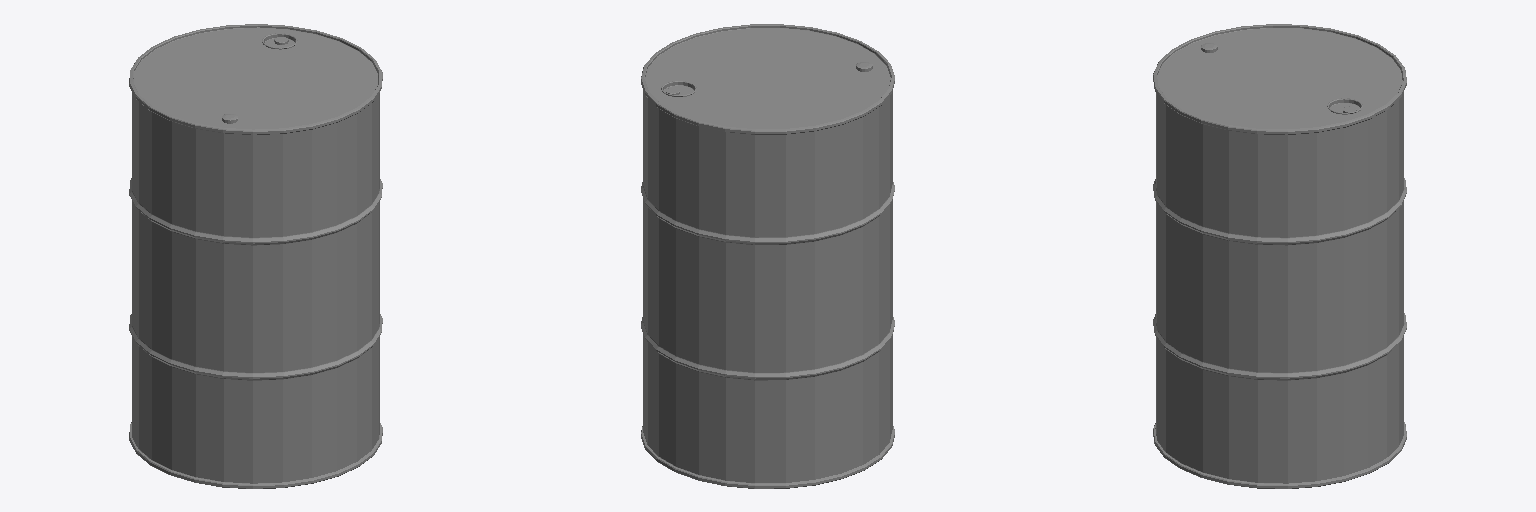
The model's file is Barrel_01.obj.
3 renders of one model, left to right at view 1: azimuth 30°, elevation 25°; view 2: azimuth 150°, elevation 25°; view 3: azimuth 270°, elevation 25°, orthographic.
Visible parts, largest first — view 1: Barrel_01_Mesh; view 2: Barrel_01_Mesh; view 3: Barrel_01_Mesh.
Part boxes in pixels (left/top/right/bottom): Barrel_01_Mesh: left=129, top=24, right=382, bottom=488; Barrel_01_Mesh: left=641, top=24, right=894, bottom=488; Barrel_01_Mesh: left=1153, top=24, right=1406, bottom=488.
Size of the model in its own units: 0.563 by 0.88 by 0.563.